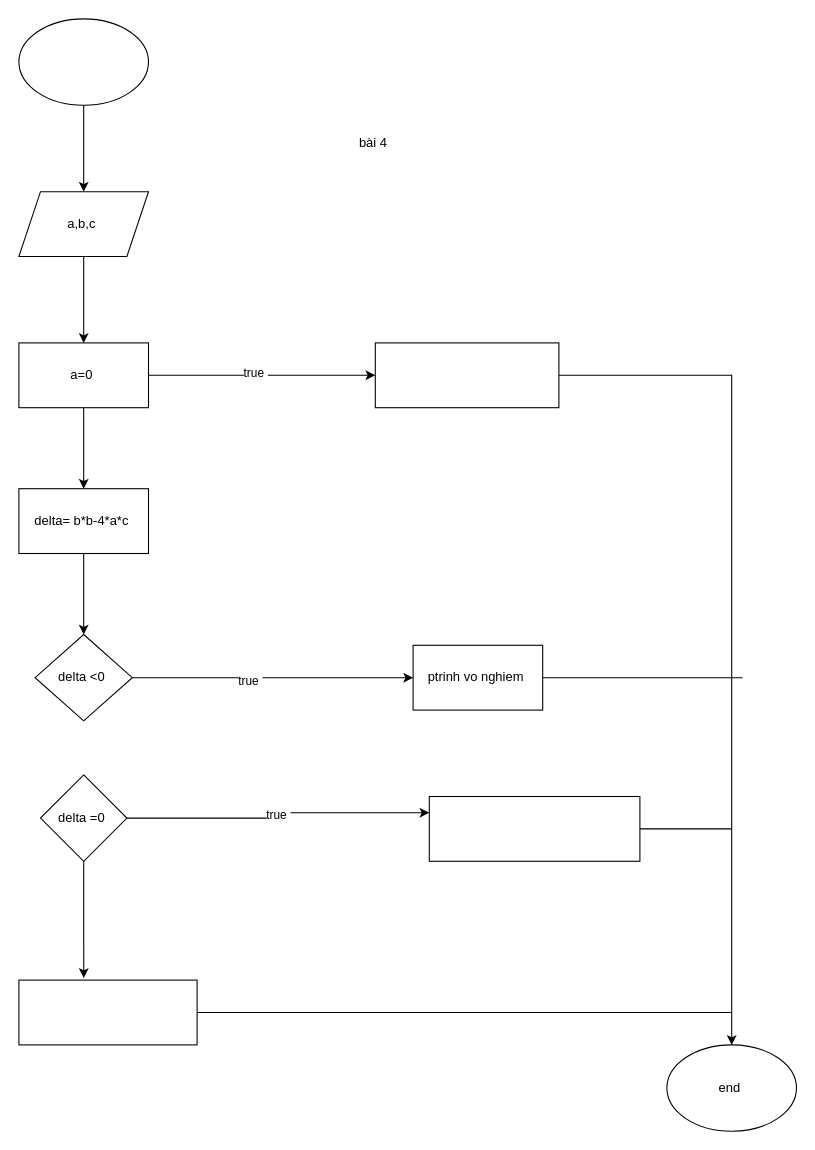
Image size: 815x1150. Some labels were removed from this diagram. The box of each missing label's shape, as (x1, y1, x2, y2) in pixels:
ptrinh bac nhat 1 ẩn: (374, 342, 559, 408)
ptrinh có 2 nghiệm phân biệt x1= (-b+ căn delta )/2a x2= (-b -căn delta )/2a: (18, 979, 197, 1045)
ptrinh có nhiem duy nhất x=-b/2a: (428, 795, 640, 861)
start: (18, 18, 148, 105)
